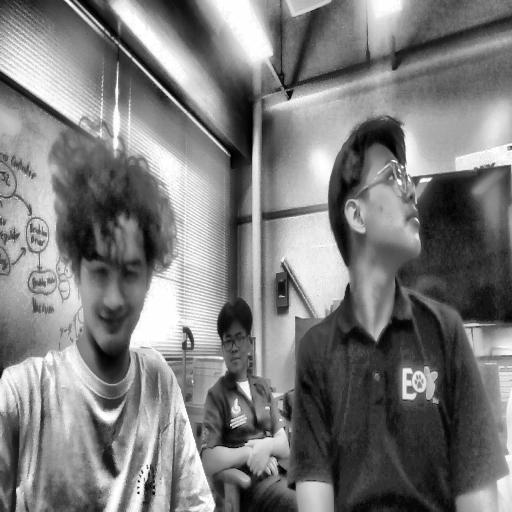Daifuku: (57, 109, 172, 366)
Not Daifuku: (324, 126, 428, 280), (214, 298, 253, 375)
